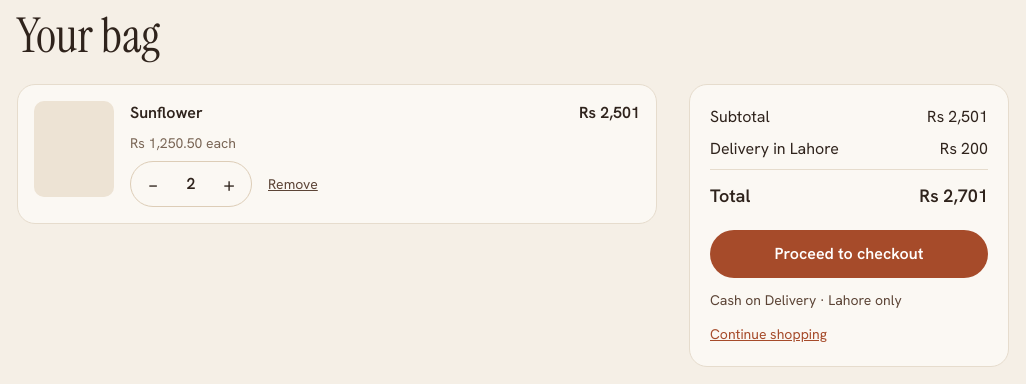
Test: removes a line
Click the button with aria-label "Remove Sunflower from bag" at (293, 184), box [268,174,318,194]
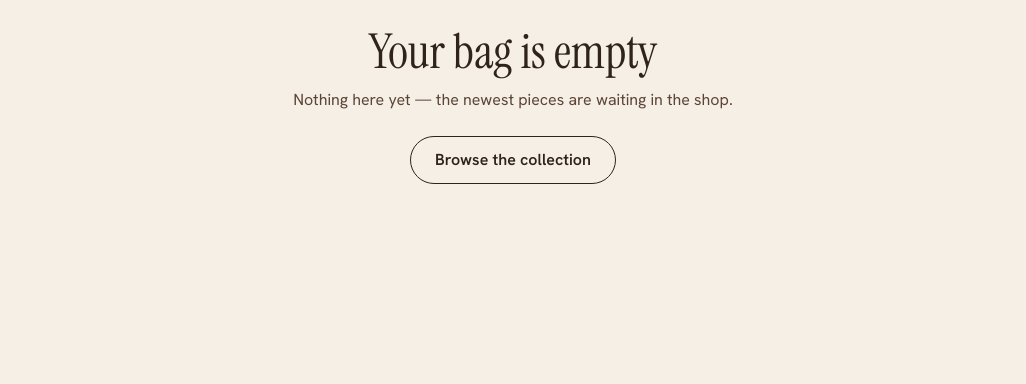
Now the heading "Your bag is empty" is shown, box [369,20,657,83]
